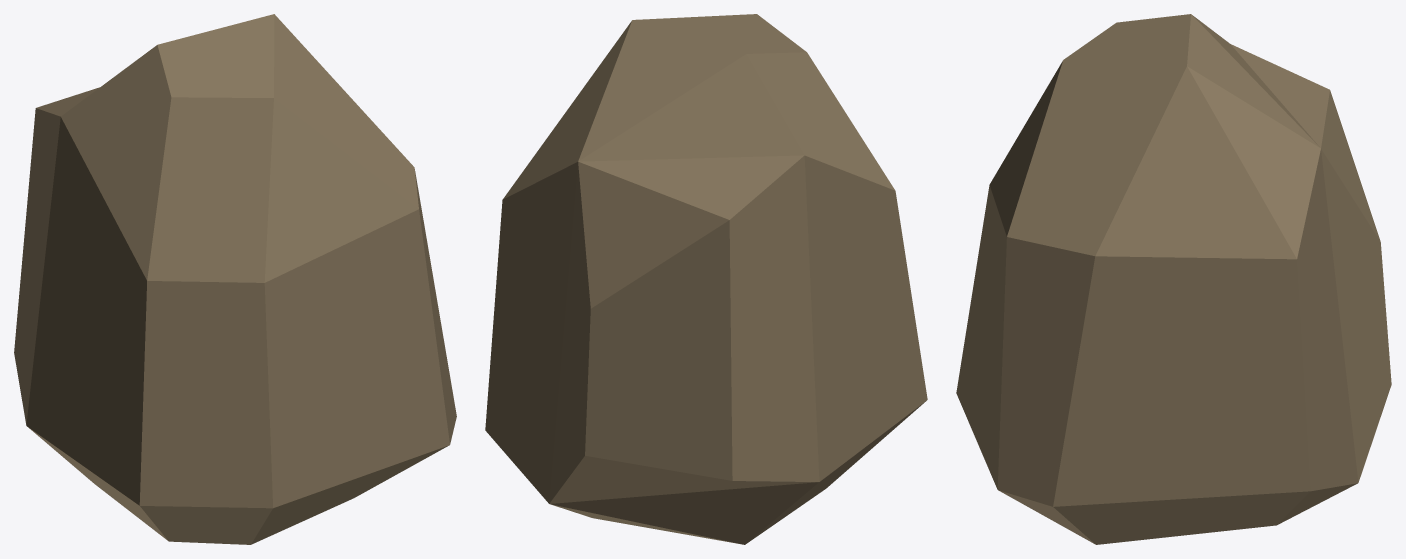
File: TB_D_Env_RockB_C.FBX
3 views of the same model, side by side, from view 1: azimuth 30°, elevation 25°; view 2: azimuth 150°, elevation 25°; view 3: azimuth 270°, elevation 25° (orthographic).
Visible parts, largest first — view 1: TB_D_Env_RockB_C; view 2: TB_D_Env_RockB_C; view 3: TB_D_Env_RockB_C.
Part boxes in pixels (x1=…): TB_D_Env_RockB_C: x1=14, y1=14, x2=456, y2=544; TB_D_Env_RockB_C: x1=485, y1=14, x2=927, y2=544; TB_D_Env_RockB_C: x1=956, y1=14, x2=1391, y2=544.
Bounding box in the file's own units: 1.32 × 1.74 × 1.49.
